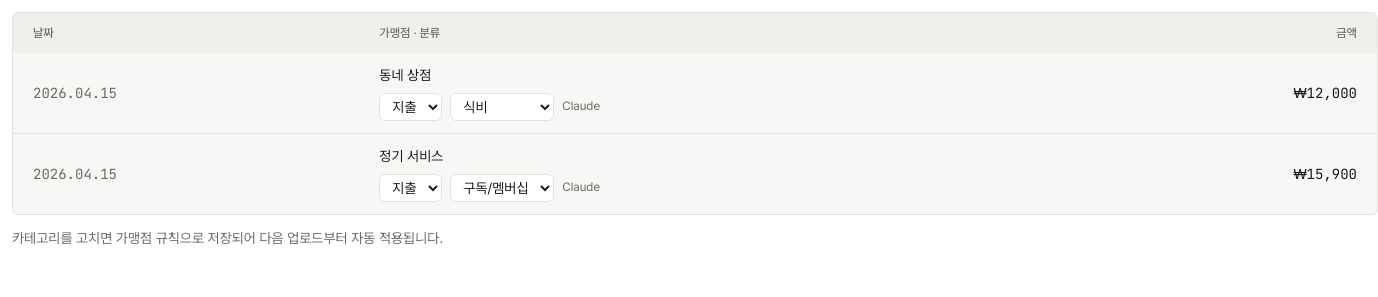
Test: 거래 목록 수정 › 실패하면 한국어 안내를 주고 원래 값을 지킵니다
Select "환불" in the dropdown named "동네 상점 거래 유형" at point(411, 107), box [379,93,442,121]
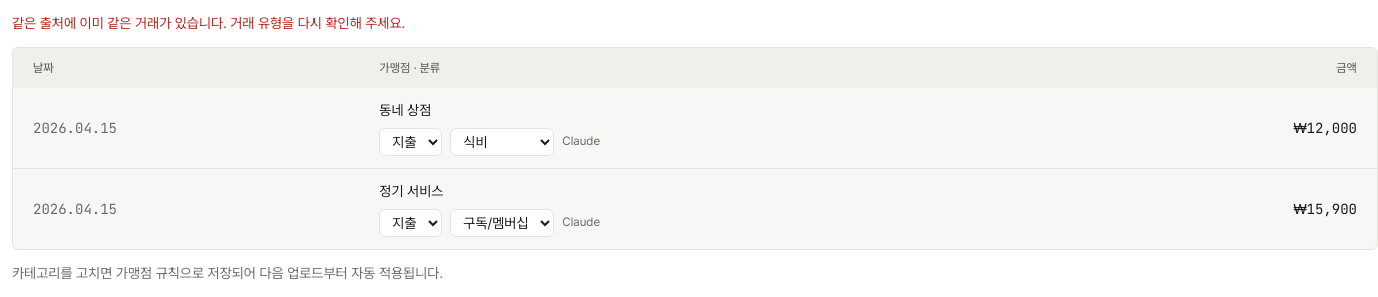
Result: the text "같은 출처에 이미 같은 거래가 있습니다. 거래 유형을 다시 확인해 주세요." is shown at [12,15,405,31]
